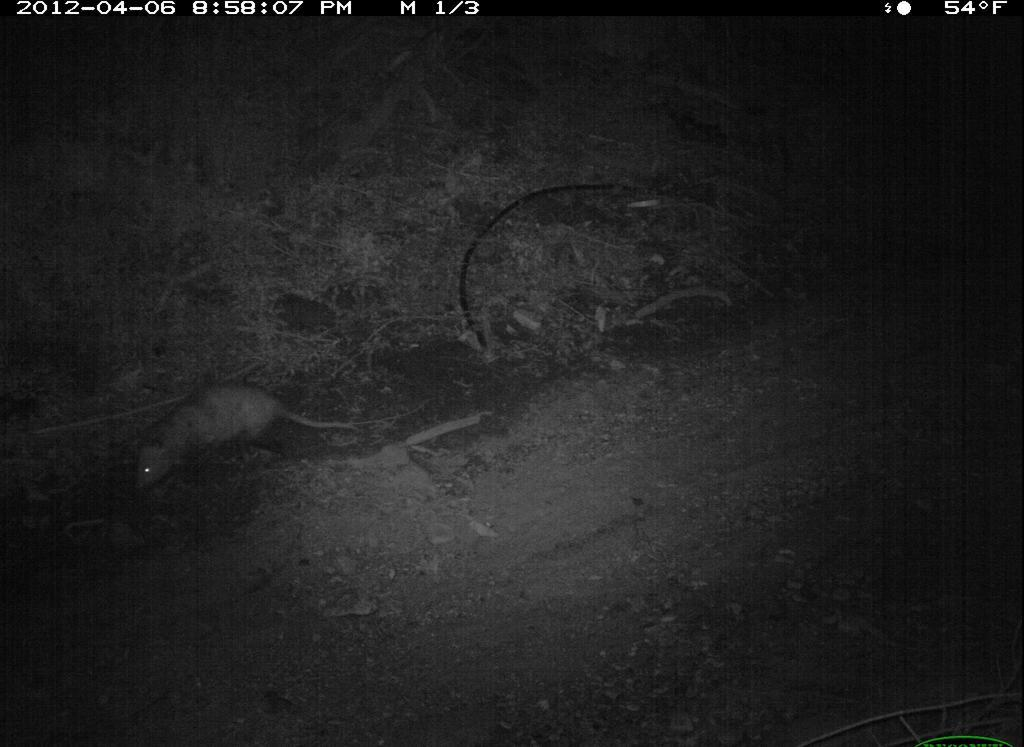opossum: (121, 370, 373, 501)
